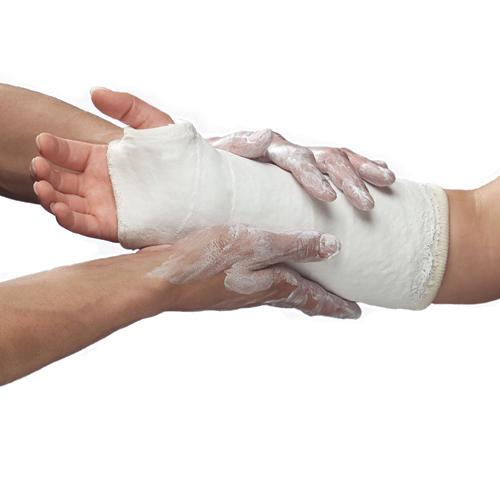bandage: (107, 123, 451, 318)
